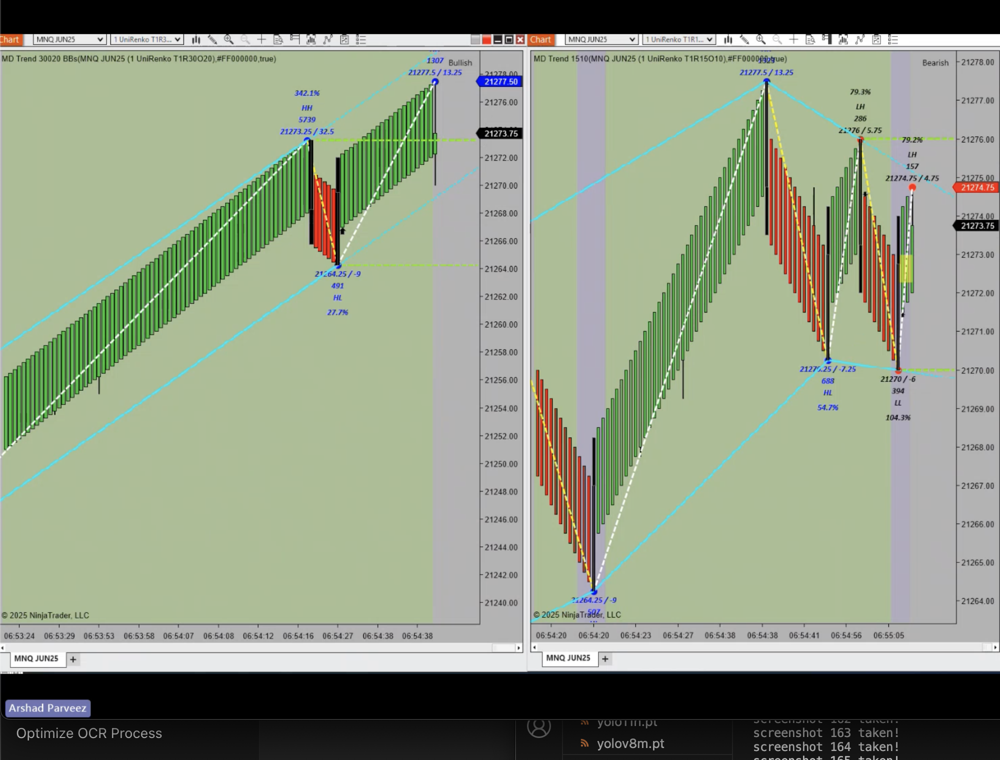HH: (297, 102, 320, 118)
HL: (327, 287, 351, 306), (819, 384, 841, 403)
LH: (903, 146, 929, 164), (853, 99, 874, 117)
LL: (887, 391, 913, 416)
